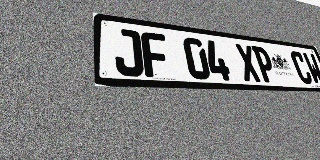0: (182, 37, 211, 80)
4: (203, 39, 232, 81)
C: (289, 51, 314, 84)
F: (140, 31, 171, 78)
J: (113, 28, 144, 77)
P: (251, 46, 278, 83)
W: (302, 52, 320, 85)
X: (234, 43, 262, 82)
